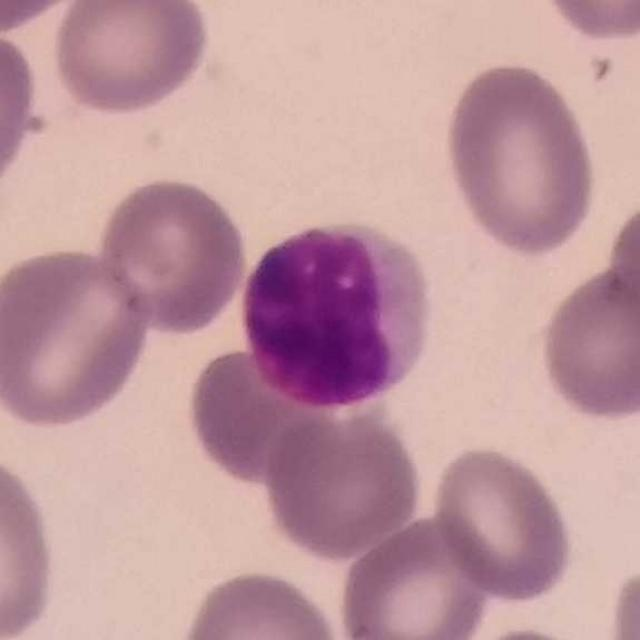Lymphocyte: (232, 214, 438, 413)
RBC: (439, 57, 602, 258), (0, 241, 156, 432), (183, 338, 364, 490), (258, 400, 426, 562), (94, 172, 252, 336), (427, 441, 578, 604), (335, 510, 493, 640), (48, 0, 215, 118), (534, 259, 640, 424), (176, 565, 345, 640), (0, 446, 61, 640), (0, 22, 45, 200), (603, 190, 640, 357), (535, 0, 640, 45), (0, 0, 91, 35), (603, 557, 639, 640), (458, 623, 604, 640)
